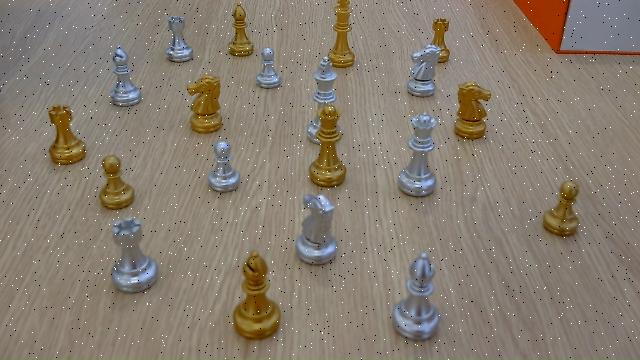black_bishop: (231, 252, 283, 340), (227, 3, 254, 57)
black_king: (329, 0, 357, 67)
black_knight: (453, 82, 493, 140), (185, 75, 224, 134)
black_pawn: (543, 181, 581, 237), (98, 156, 135, 209)
black_queen: (309, 105, 347, 187)
black_rook: (46, 105, 88, 166), (432, 18, 452, 64)
white_bishop: (392, 252, 442, 341), (109, 46, 141, 107)
white_king: (315, 56, 336, 101)
white_knight: (294, 191, 340, 266), (406, 44, 441, 98)
white_pawn: (208, 141, 240, 193), (257, 47, 282, 89)
white_queen: (398, 112, 439, 198)
white_rook: (108, 218, 160, 294), (166, 16, 193, 63)
